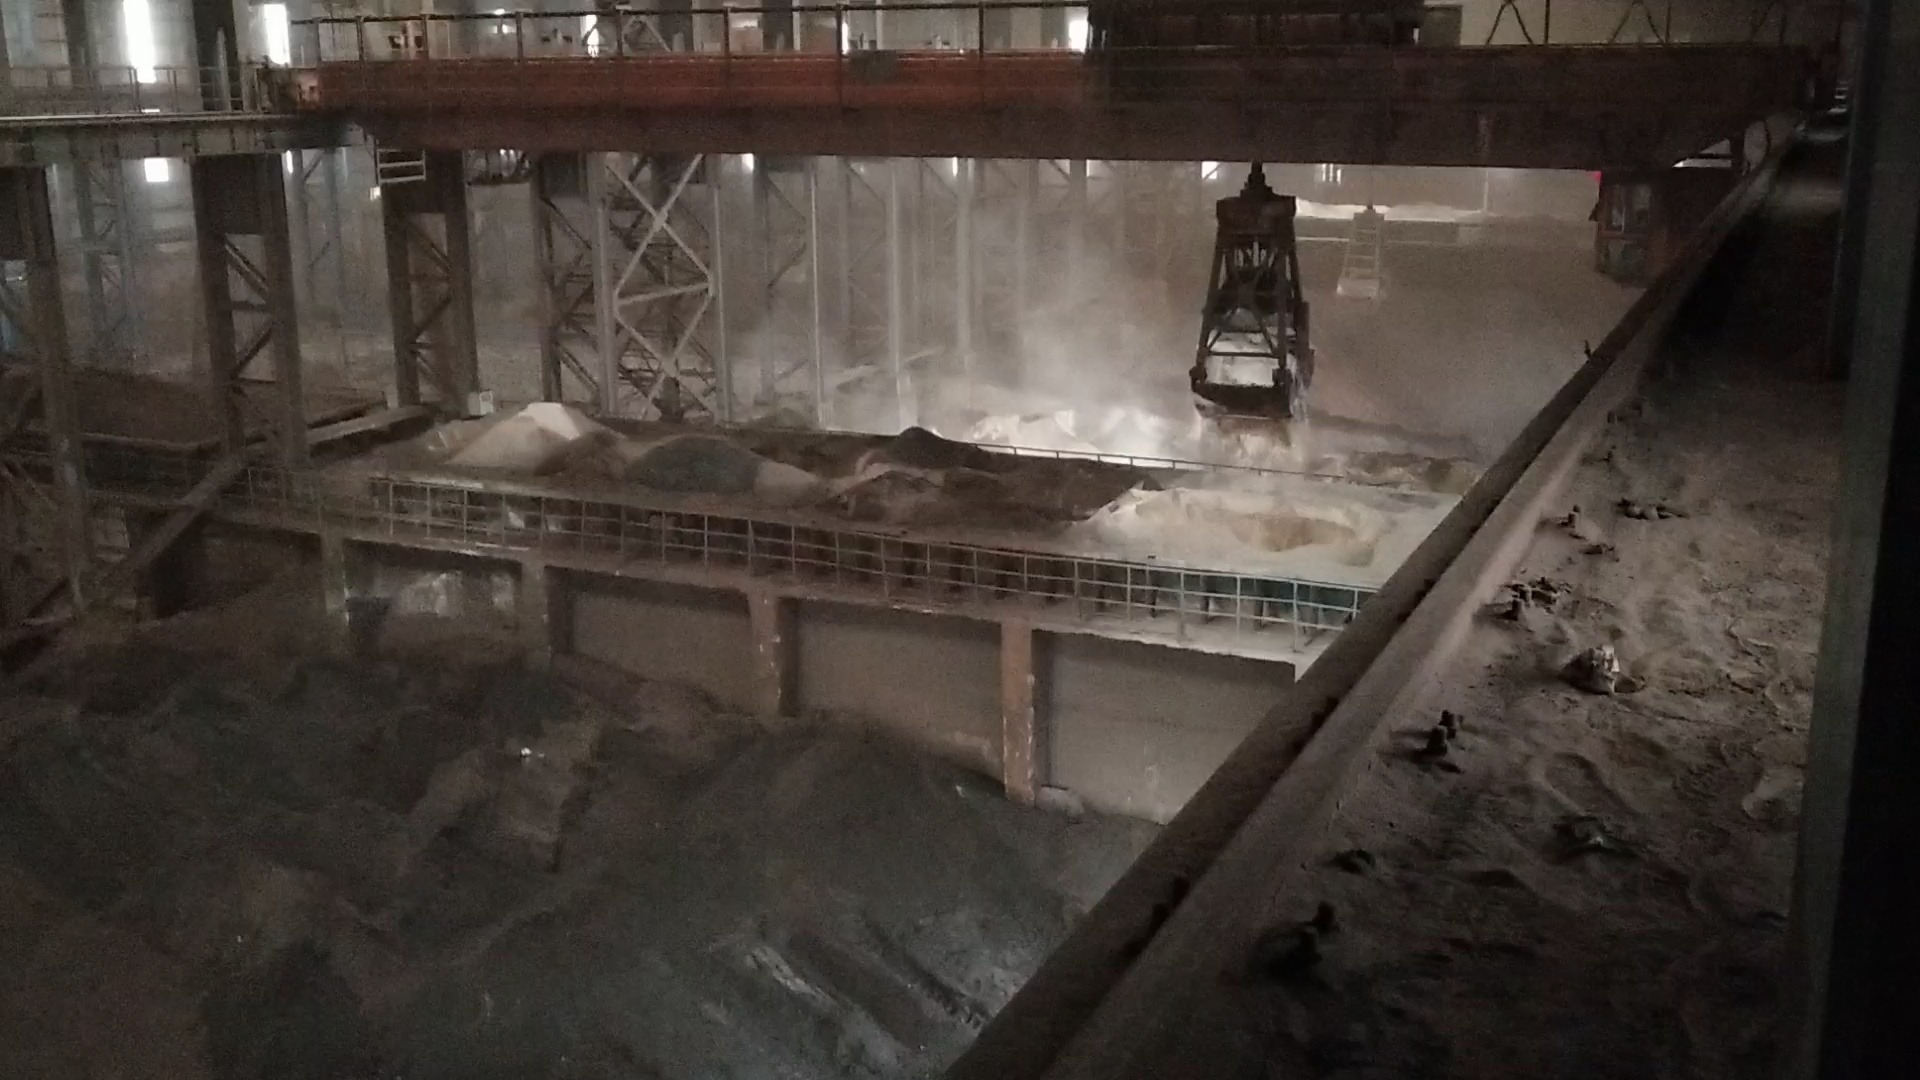dust: (725, 170, 1604, 574)
grab: (1180, 164, 1319, 440)
